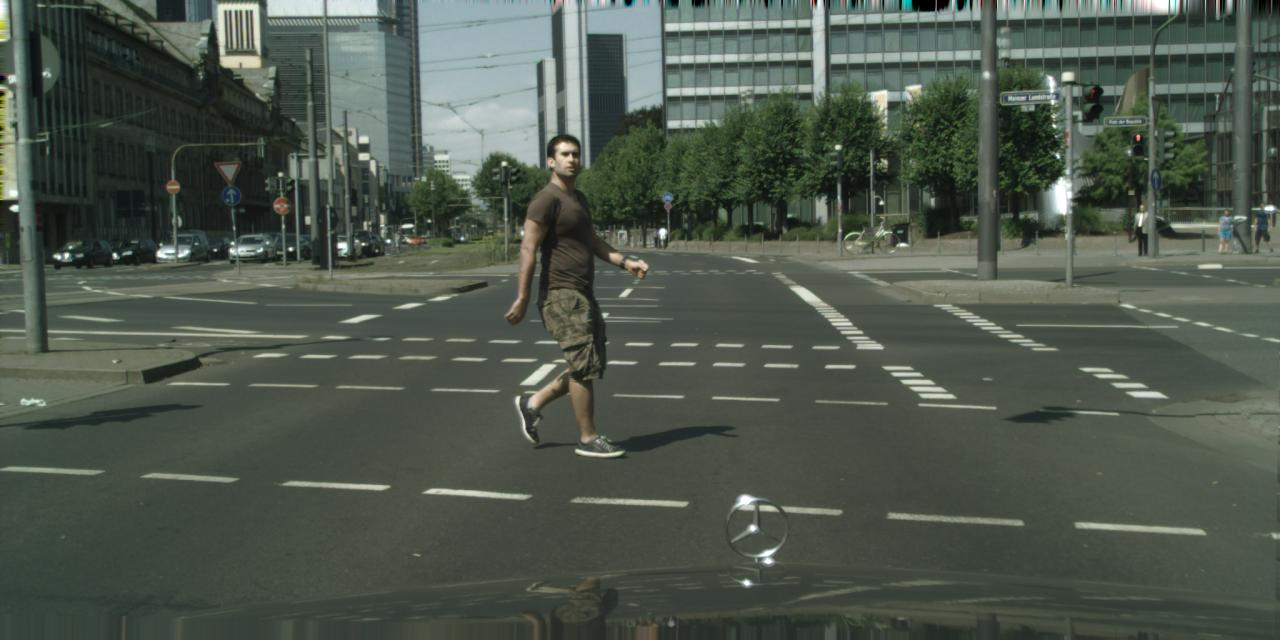ped: (496, 134, 624, 448), (1131, 204, 1152, 254), (1252, 202, 1272, 250), (1216, 208, 1233, 253), (393, 230, 403, 254), (657, 225, 667, 248), (651, 227, 660, 248)
